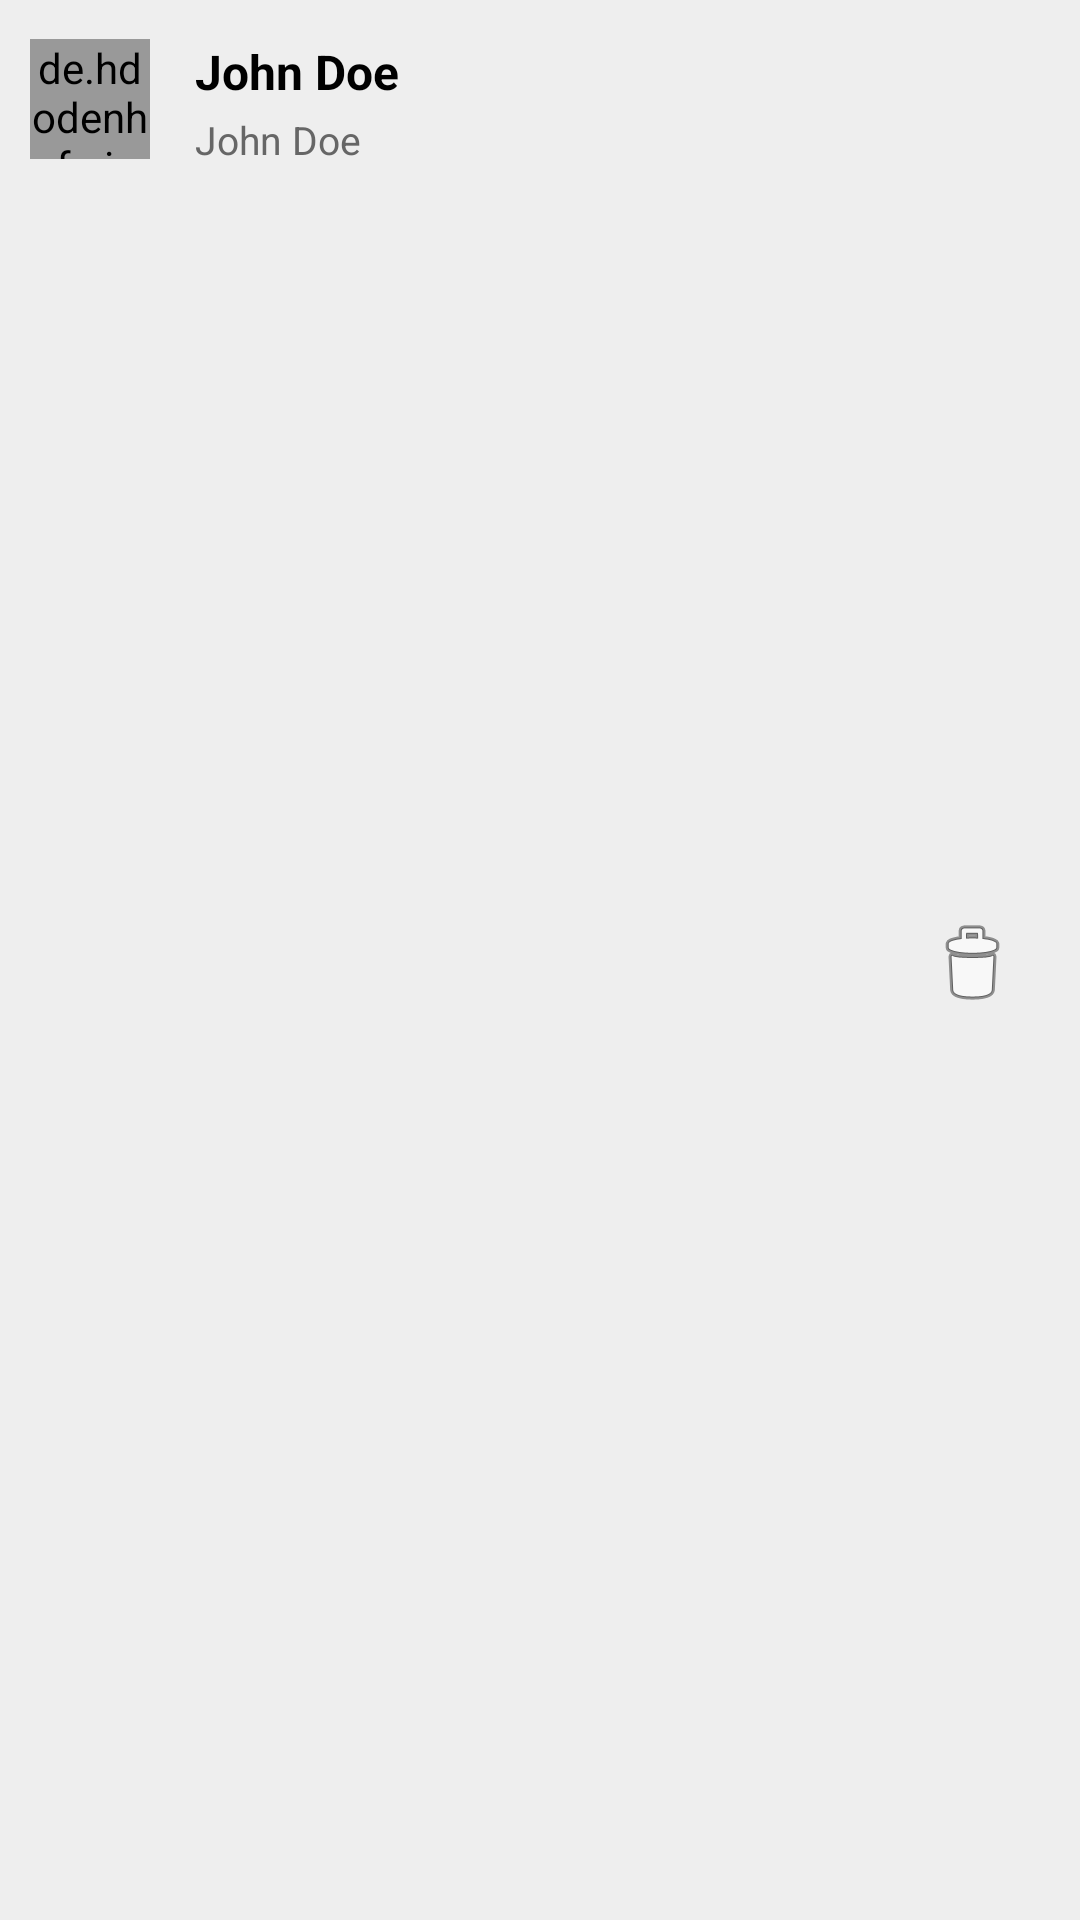

Named icons in this screenshot (1080x1920) and their bounding boxes, (x1, y1, x2, y2):
delete: (945, 925, 1000, 1000)
